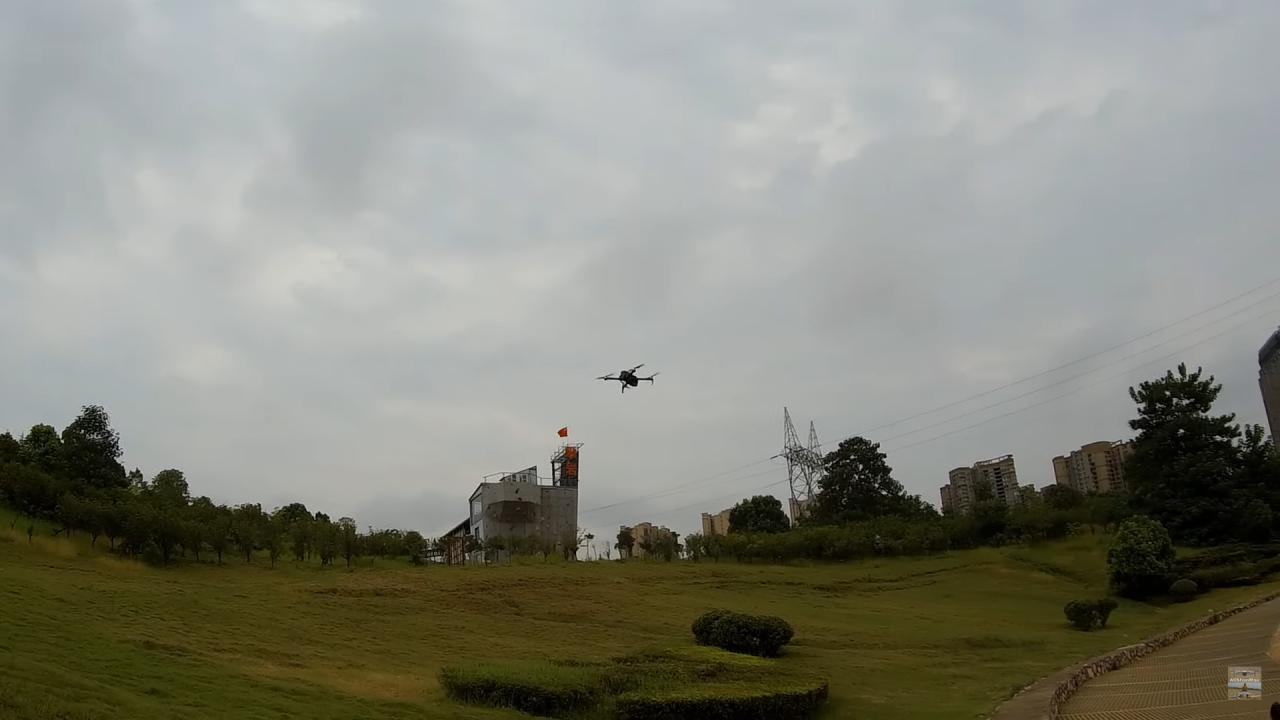Drone: (583, 354, 672, 400)
